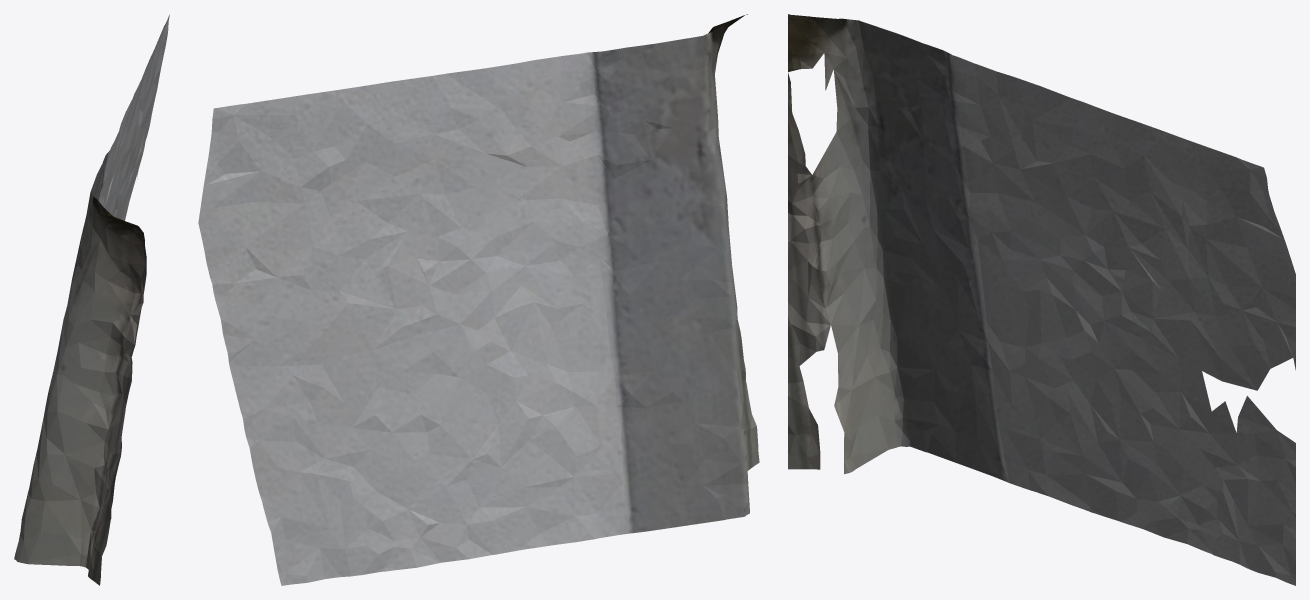
The picture shows the model from 3 angles, left to right: view 1: azimuth 30°, elevation 25°; view 2: azimuth 150°, elevation 25°; view 3: azimuth 270°, elevation 25°; orthographic projection. The views are drawn at different scales.
Size of the model in its own units: 0.7079 by 0.8373 by 0.8374.
Materials: 3 (3 with a texture image).
